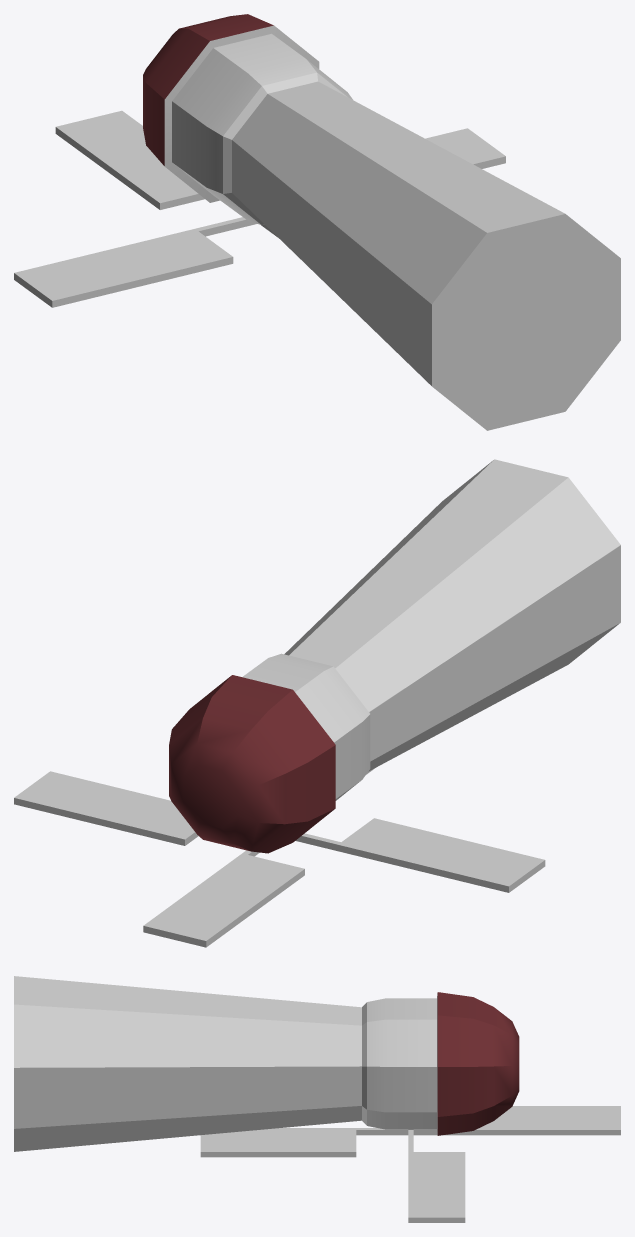
The model's file is mill.fbx.
3 views of the same model, one above another, from view 1: azimuth 30°, elevation 25°; view 2: azimuth 150°, elevation 25°; view 3: azimuth 270°, elevation 25° (orthographic). The views are drawn at different scales.
Visible parts, largest first — view 1: Cone, Cube; view 2: Cone, Cube; view 3: Cone, Cube.
Boxes of the visible parts, x1=… form: Cone: x1=143, y1=14, x2=620, y2=430; Cube: x1=14, y1=110, x2=505, y2=307; Cone: x1=169, y1=459, x2=620, y2=853; Cube: x1=14, y1=768, x2=545, y2=947; Cone: x1=14, y1=976, x2=519, y2=1151; Cube: x1=200, y1=1106, x2=620, y2=1222.
Size of the model in its own units: 1664 by 644 by 2403.
